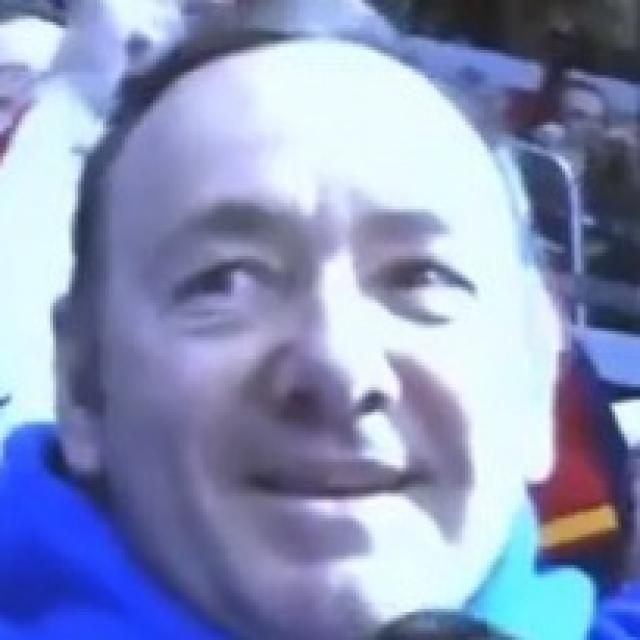Normal: (95, 35, 537, 637)
